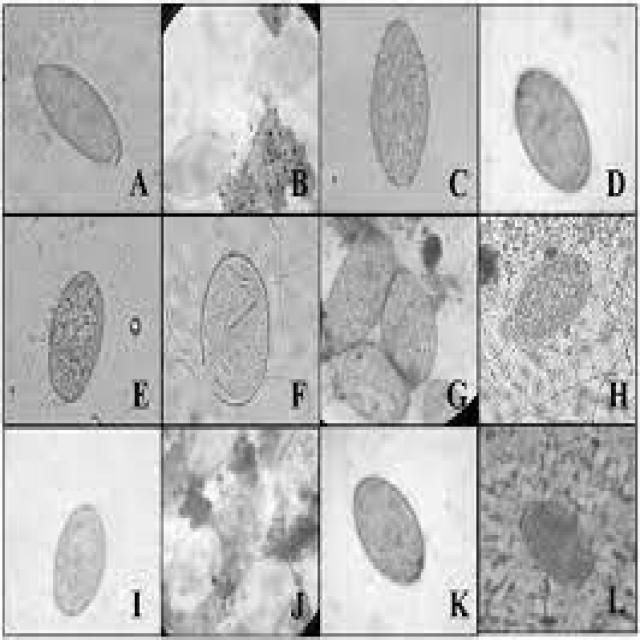Fasciola Hepatica: (363, 15, 438, 195), (509, 64, 595, 193), (29, 58, 125, 162), (42, 262, 112, 404), (352, 469, 428, 594), (510, 240, 594, 346), (48, 498, 113, 623)
